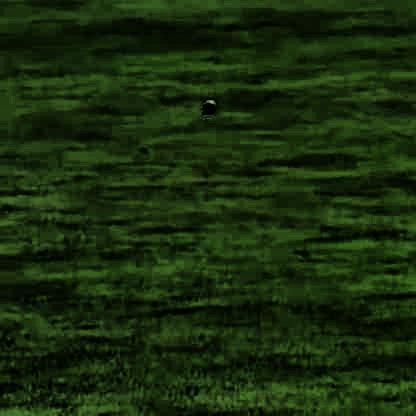golfball: (199, 96, 215, 112)
